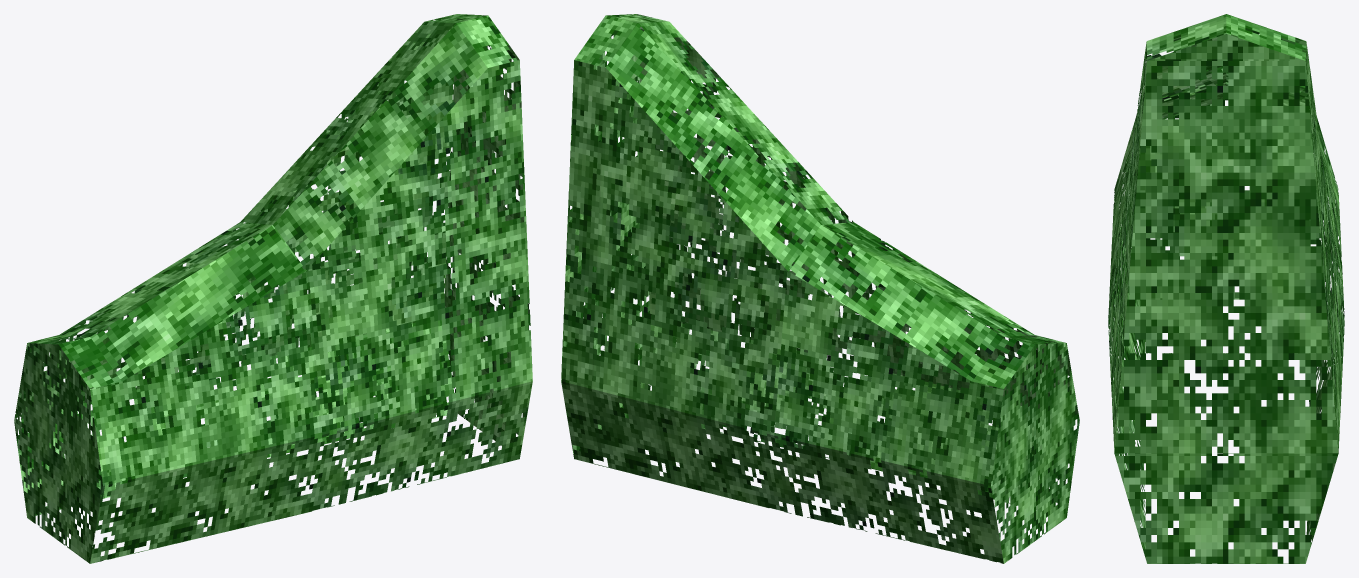
File: bush_connector_ornamental_spring.glb
The picture shows the model from 3 angles, left to right: view 1: azimuth 30°, elevation 25°; view 2: azimuth 150°, elevation 25°; view 3: azimuth 270°, elevation 25°; orthographic projection. The views are drawn at different scales.
Parts seen in each view (by area): view 1: bush_connector_ornamental_spring; view 2: bush_connector_ornamental_spring; view 3: bush_connector_ornamental_spring.
Boxes of the visible parts, x1=… form: bush_connector_ornamental_spring: x1=14, y1=14, x2=532, y2=563; bush_connector_ornamental_spring: x1=561, y1=14, x2=1079, y2=563; bush_connector_ornamental_spring: x1=1108, y1=14, x2=1344, y2=563.
Bounding box in the file's own units: 2.01 × 1.88 × 0.7592.
Materials: 1 (1 with a texture image).
